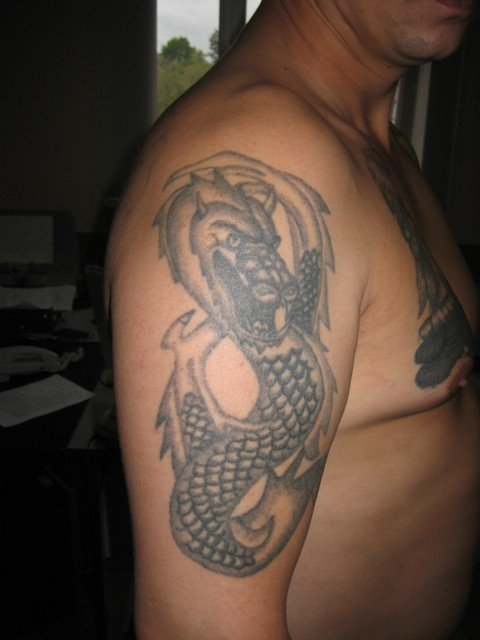tatu6_drakon: (142, 139, 364, 593)
